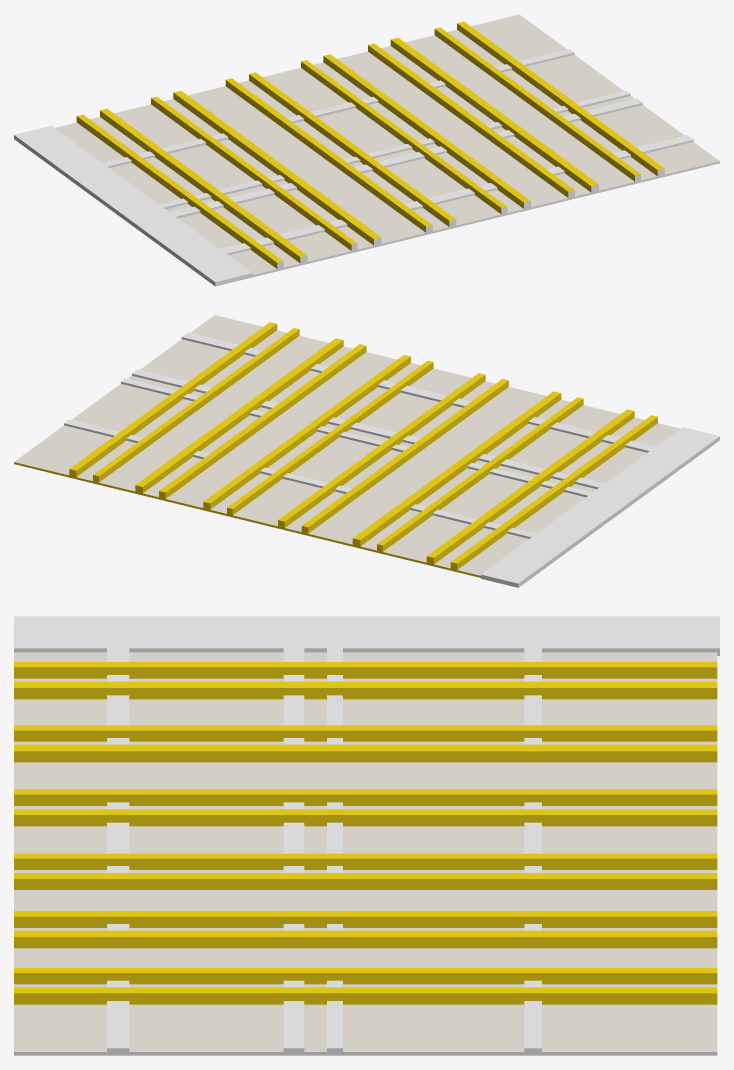
The model's file is irosa_unrolled.gltf.
3 renders of one model, top to bottom at view 1: azimuth 30°, elevation 25°; view 2: azimuth 150°, elevation 25°; view 3: azimuth 270°, elevation 25°, orthographic. The views are drawn at different scales.
Visible parts, largest first — view 1: Part 1; view 2: Part 1; view 3: Part 1.
Boxes of the visible parts, bbox=[...] form: Part 1: bbox=[14, 14, 719, 286]; Part 1: bbox=[14, 315, 719, 587]; Part 1: bbox=[14, 616, 719, 1055].
Size of the model in its own units: 0.124 by 0.002 by 0.0857.
